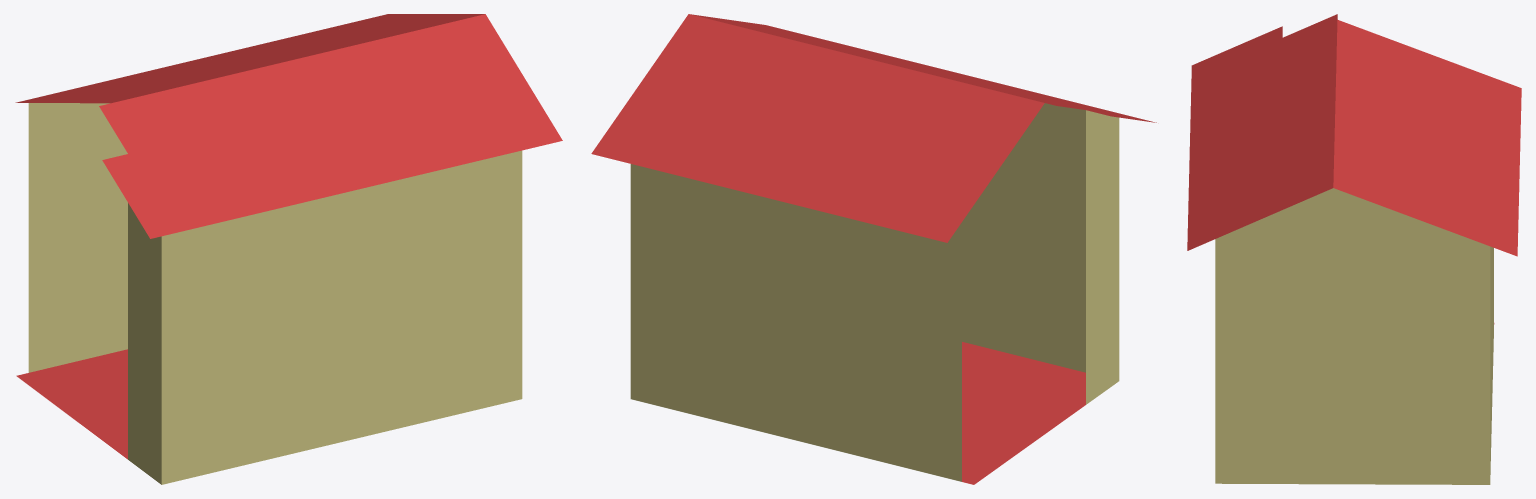
3 renders of one model, left to right at view 1: azimuth 30°, elevation 25°; view 2: azimuth 150°, elevation 25°; view 3: azimuth 270°, elevation 25°, orthographic. The views are drawn at different scales.
Size of the model in its own units: 12.02 by 9.07 by 9.22.
